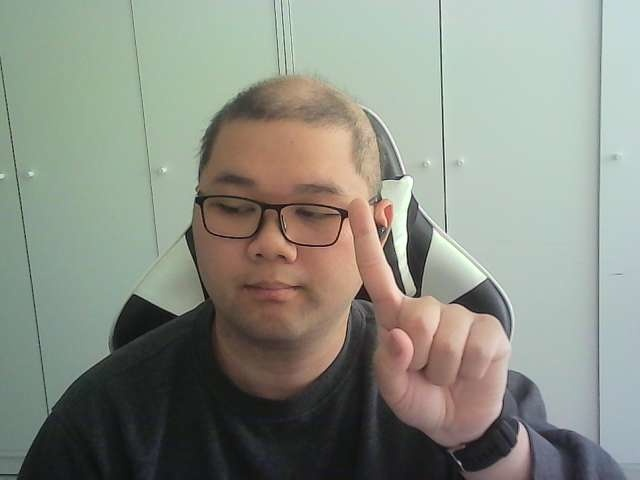One: (349, 197, 513, 444)
